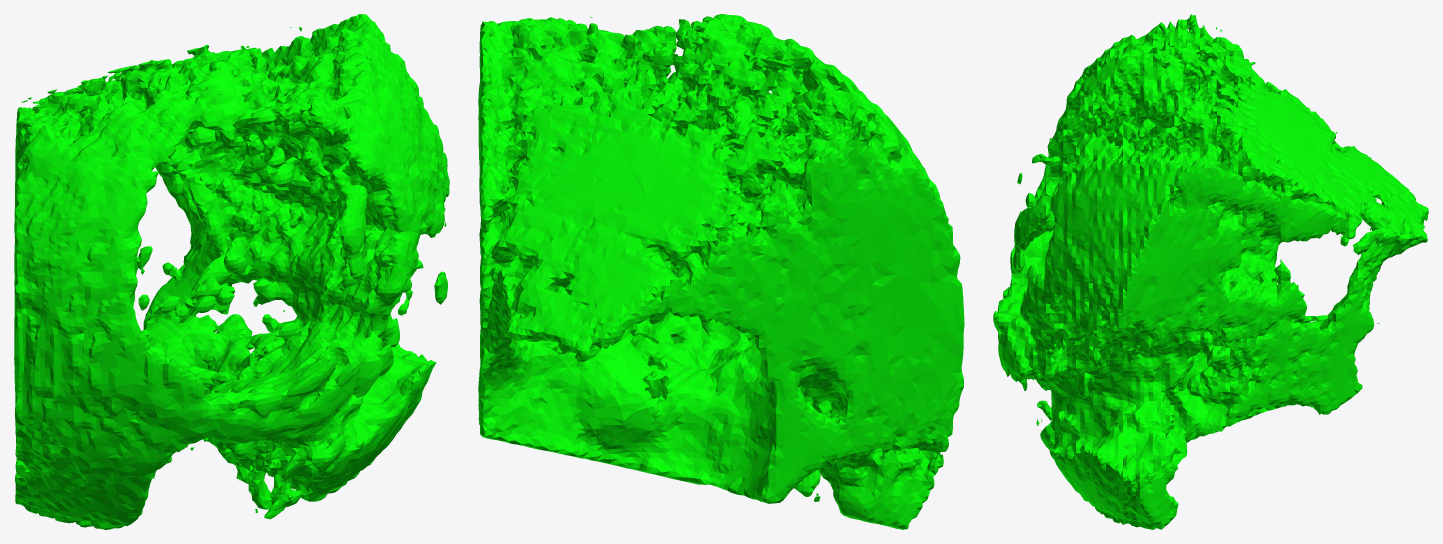
File: B939XXXX-1_base_26.obj
3 views of the same model, side by side, from view 1: azimuth 30°, elevation 25°; view 2: azimuth 150°, elevation 25°; view 3: azimuth 270°, elevation 25° (orthographic). The views are drawn at different scales.
Parts seen in each view (by area): view 1: 26_base; view 2: 26_base; view 3: 26_base.
Part boxes in pixels (x1,y1,x2,y2): 26_base: (14, 14, 449, 529); 26_base: (478, 14, 964, 529); 26_base: (993, 14, 1428, 529).
Size of the model in its own units: 218 by 216 by 204.
